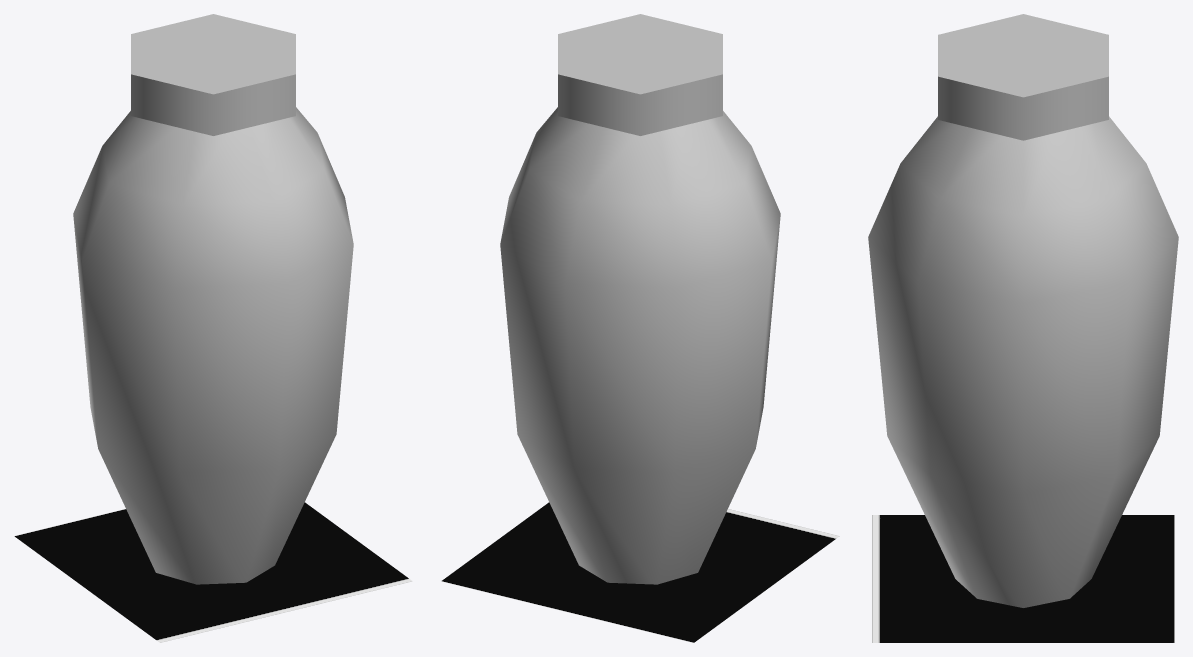
The model's file is vase_03.fbx.
3 renders of one model, left to right at view 1: azimuth 30°, elevation 25°; view 2: azimuth 150°, elevation 25°; view 3: azimuth 270°, elevation 25°, orthographic. The views are drawn at different scales.
Visible parts, largest first — view 1: vase_03, shadow; view 2: vase_03, shadow; view 3: vase_03, shadow.
Part boxes in pixels (x1,y1,x2,y2): vase_03: [73, 14, 353, 584]; shadow: [14, 502, 412, 642]; vase_03: [500, 14, 780, 584]; shadow: [441, 502, 839, 642]; vase_03: [868, 14, 1178, 607]; shadow: [872, 515, 1174, 642].
Size of the model in its own units: 16.72 by 31.06 by 16.5.
